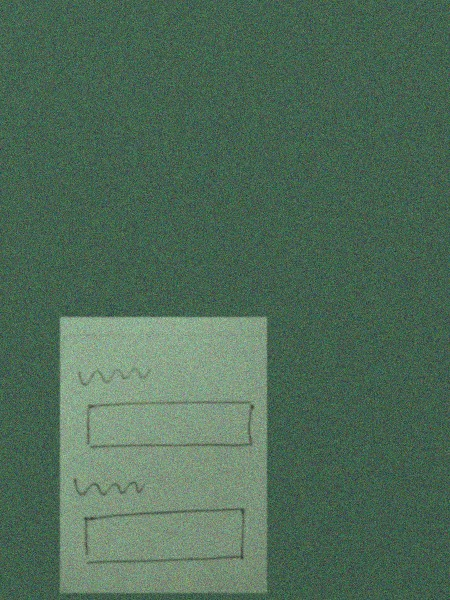text: (74, 359, 157, 392), (68, 472, 149, 501)
text_input: (77, 505, 254, 568), (81, 396, 260, 453)
